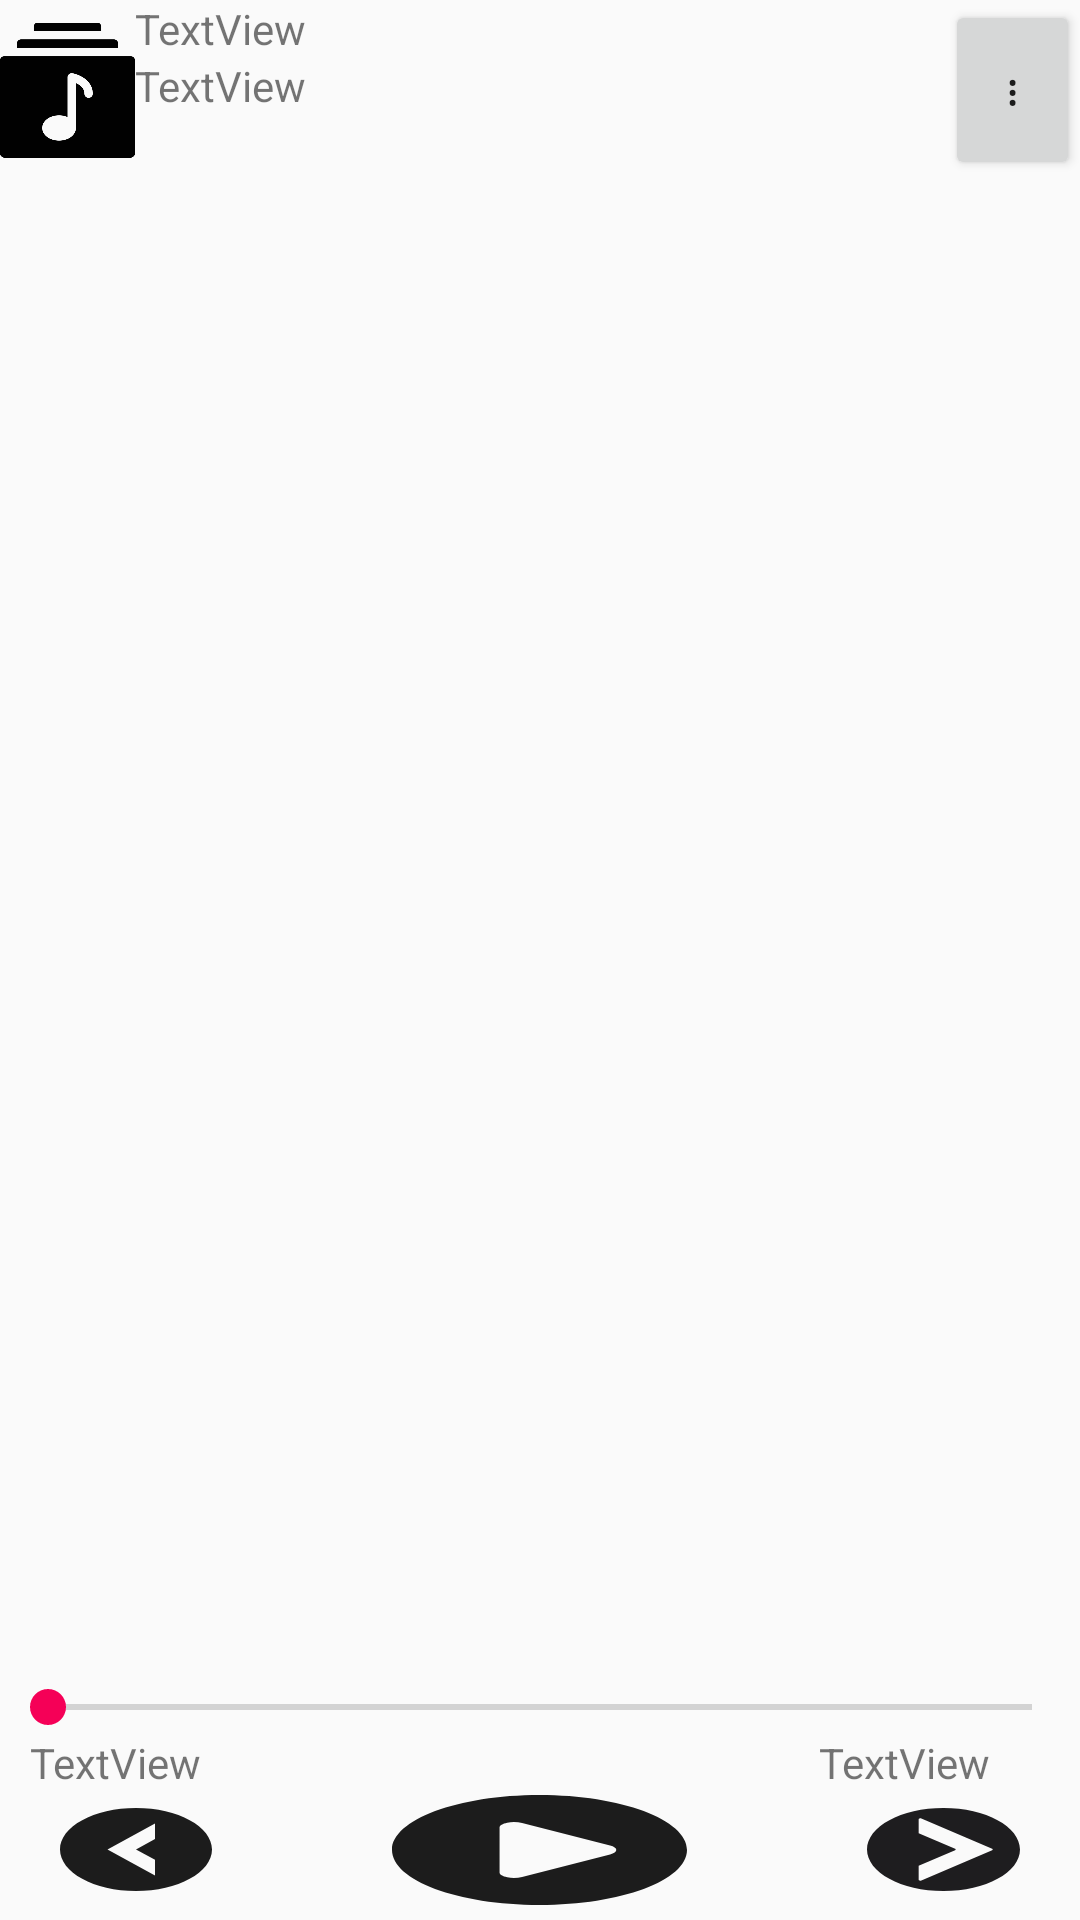

Screen size 1080 x 1920. Icon name, then its box in pixels as (x1, y1, x2, y2):
album: (0, 23, 135, 158)
left chevron: (60, 1808, 212, 1891)
play: (392, 1795, 687, 1905)
right chevron: (867, 1808, 1020, 1891)
